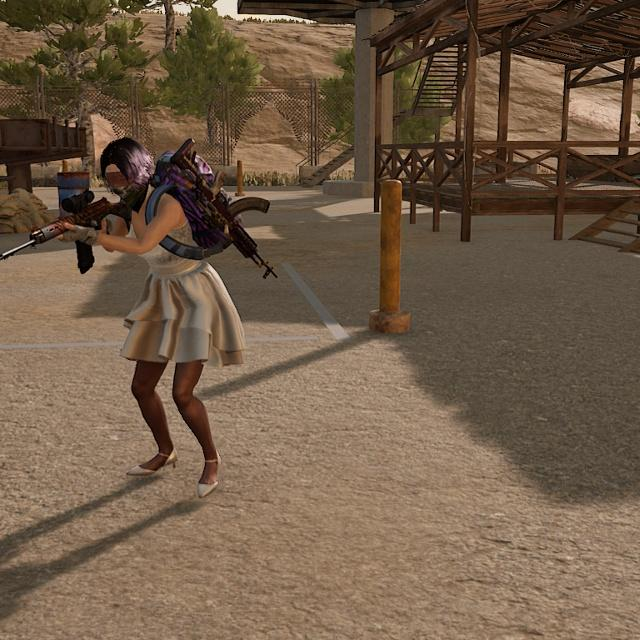head: (94, 134, 162, 213)
people: (76, 132, 251, 503)
